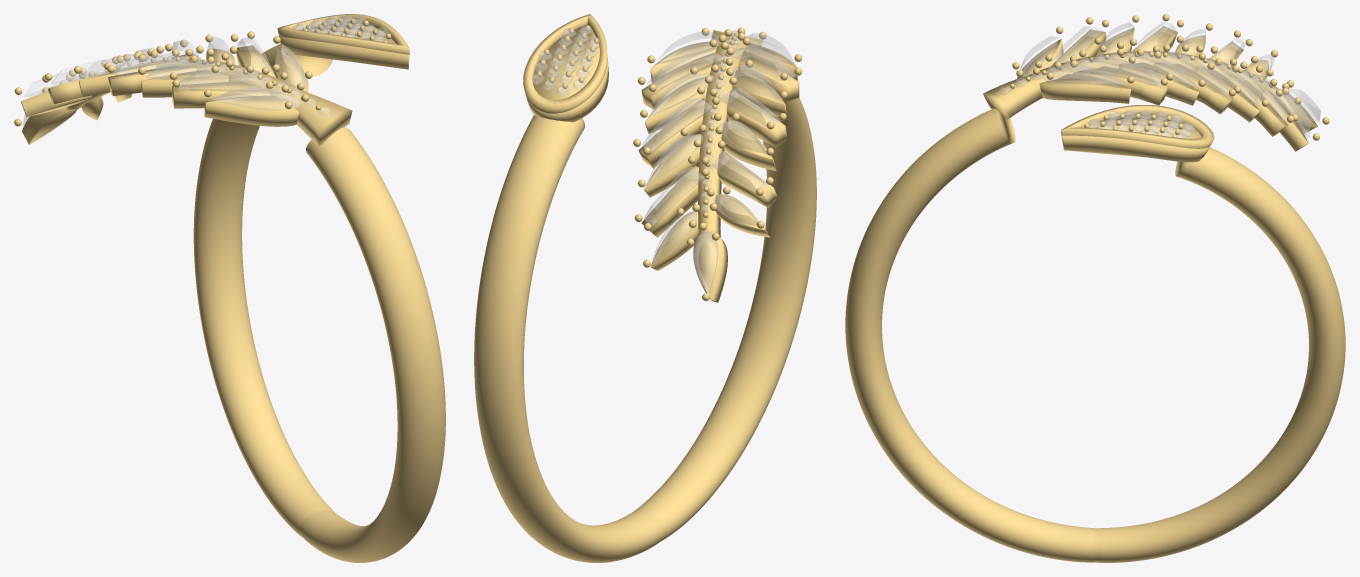
The model's file is ring.glb.
The picture shows the model from 3 angles, left to right: view 1: azimuth 30°, elevation 25°; view 2: azimuth 150°, elevation 25°; view 3: azimuth 270°, elevation 25°; orthographic projection. The views are drawn at different scales.
Parts seen in each view (by area): view 1: Ring_Gold, Ring_Stones; view 2: Ring_Gold, Ring_Stones; view 3: Ring_Gold, Ring_Stones.
Boxes of the visible parts, <box> form: Ring_Gold: <box>14,14,445,562</box>; Ring_Stones: <box>22,15,388,125</box>; Ring_Gold: <box>474,14,816,562</box>; Ring_Stones: <box>532,25,794,293</box>; Ring_Gold: <box>845,14,1345,562</box>; Ring_Stones: <box>998,21,1320,138</box>.
Size of the model in its own units: 1.28 by 2.09 by 2.
